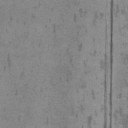surface scratch: (104, 0, 114, 128)
